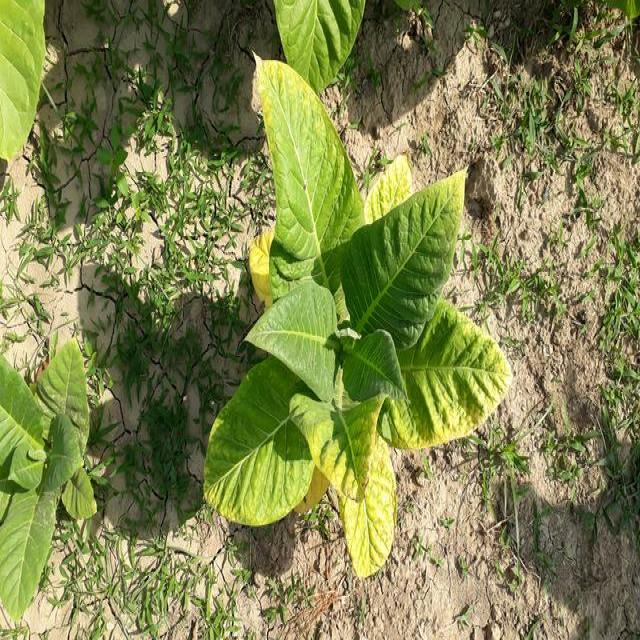crop: (210, 43, 512, 582), (0, 354, 92, 614), (273, 3, 368, 91), (1, 0, 46, 175)
